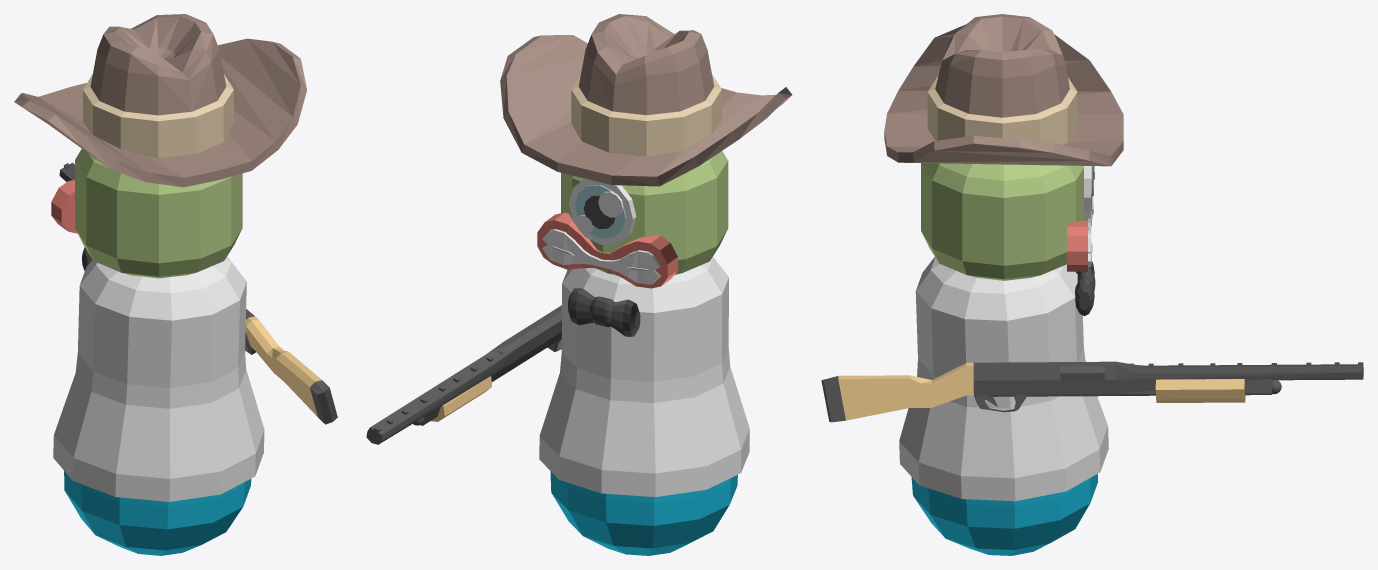
Rendered from Hunter.fbx.
3 renders of one model, left to right at view 1: azimuth 30°, elevation 25°; view 2: azimuth 150°, elevation 25°; view 3: azimuth 270°, elevation 25°, orthographic.
Parts seen in each view (by area): view 1: model:mesh2126481262; view 2: model:mesh2126481262; view 3: model:mesh2126481262.
Boxes of the visible parts, x1,y1,x2,y2 form: model:mesh2126481262: (14,14,337,555); model:mesh2126481262: (366,14,792,555); model:mesh2126481262: (821,14,1363,555).
Size of the model in its own units: 6.15 by 11.66 by 11.25.
